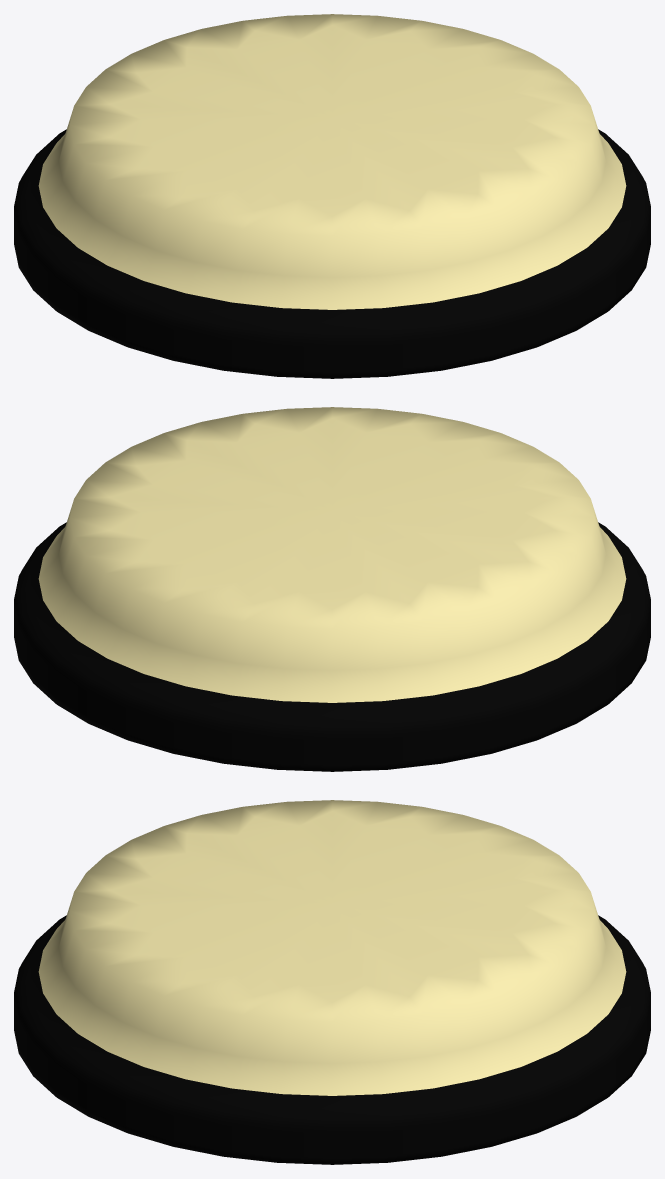
The model's file is Hologram emmiter (circle light ).fbx.
3 views of the same model, one above another, from view 1: azimuth 30°, elevation 25°; view 2: azimuth 150°, elevation 25°; view 3: azimuth 270°, elevation 25° (orthographic).
Visible parts, largest first — view 1: Cylinder001; view 2: Cylinder001; view 3: Cylinder001.
Boxes of the visible parts, <box> form: Cylinder001: <box>14,14,650,378</box>; Cylinder001: <box>14,407,650,771</box>; Cylinder001: <box>14,800,650,1164</box>.
Bounding box in the file's own units: 13.21 × 3.04 × 13.21.
